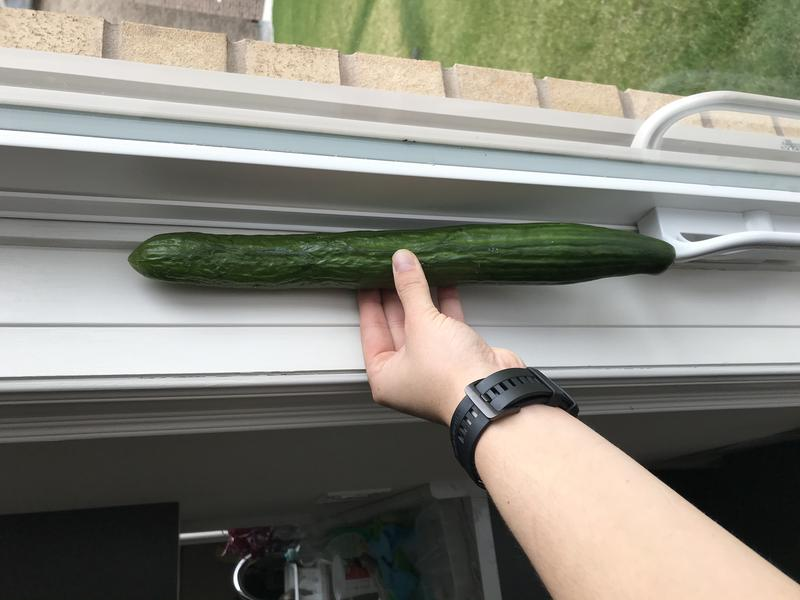cucumber: (116, 208, 688, 313)
